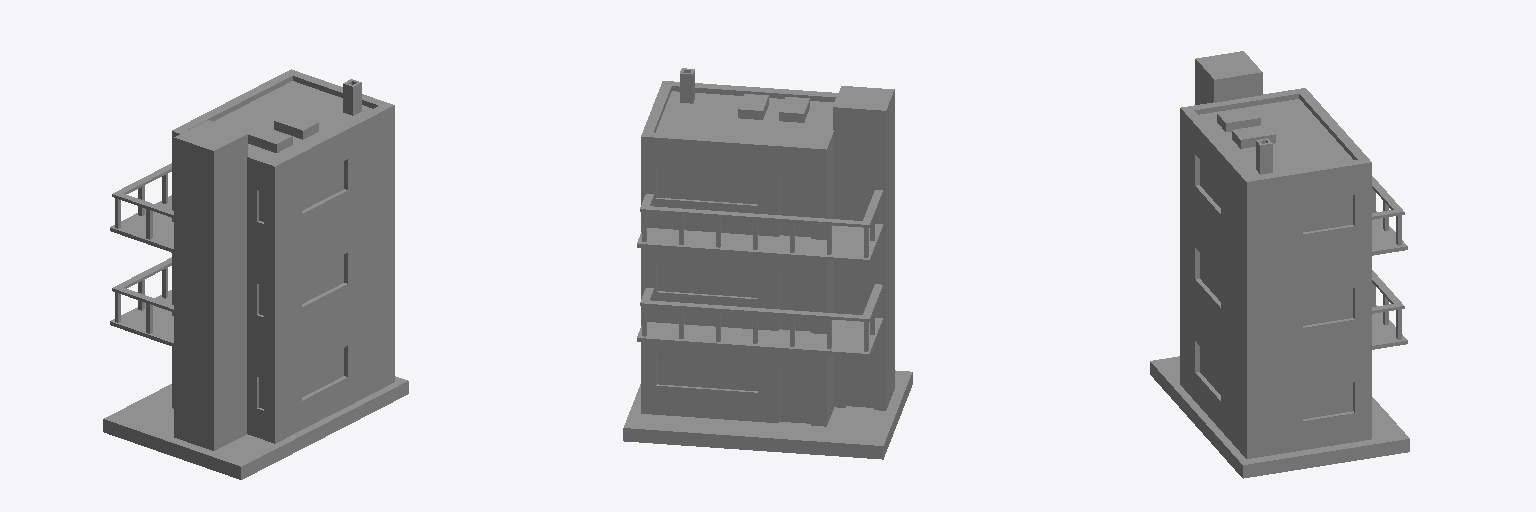
The model's file is BuildingOBJ7.obj.
The picture shows the model from 3 angles: view 1: azimuth 30°, elevation 25°; view 2: azimuth 150°, elevation 25°; view 3: azimuth 270°, elevation 25°; orthographic projection.
Parts seen in each view (by area): view 1: cabin_004.007_Untitled.009; view 2: cabin_004.007_Untitled.009; view 3: cabin_004.007_Untitled.009.
Part boxes in pixels (left/top/right/bottom): cabin_004.007_Untitled.009: left=103, top=69, right=408, bottom=479; cabin_004.007_Untitled.009: left=623, top=68, right=912, bottom=459; cabin_004.007_Untitled.009: left=1150, top=51, right=1409, bottom=478.
Size of the model in its own units: 3.64 by 4.08 by 3.06.